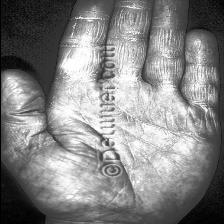Toxin: (116, 0, 210, 102), (64, 11, 96, 84)
